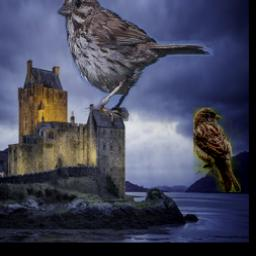Sparrow: (56, 0, 212, 122), (192, 108, 240, 193)
